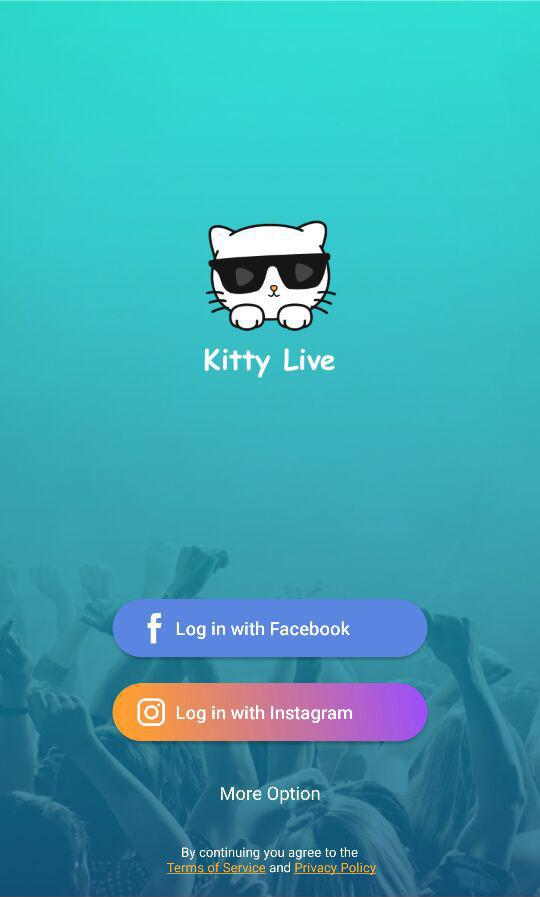BackgroundImage: (1, 1, 540, 897)
Image: (204, 220, 337, 332)
Text: (166, 846, 377, 876), (204, 347, 336, 379), (220, 786, 321, 805)
TextButton: (113, 599, 428, 658), (113, 683, 428, 742)
